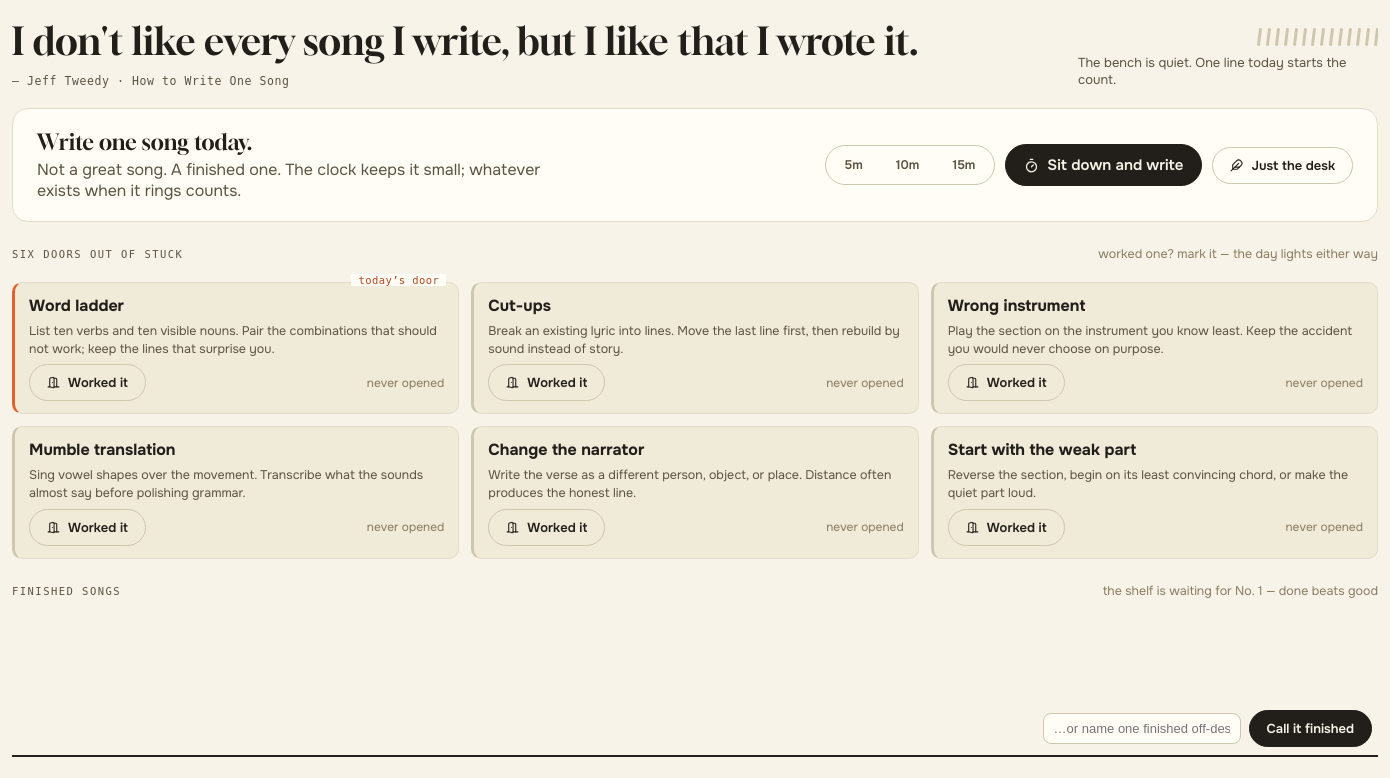
OneSong › finishing a named song shelves it as No. 1 and plays the amen
In the field named "name a song finished elsewhere": (1142, 728) [1043,712,1241,744], type "Coyote Time"
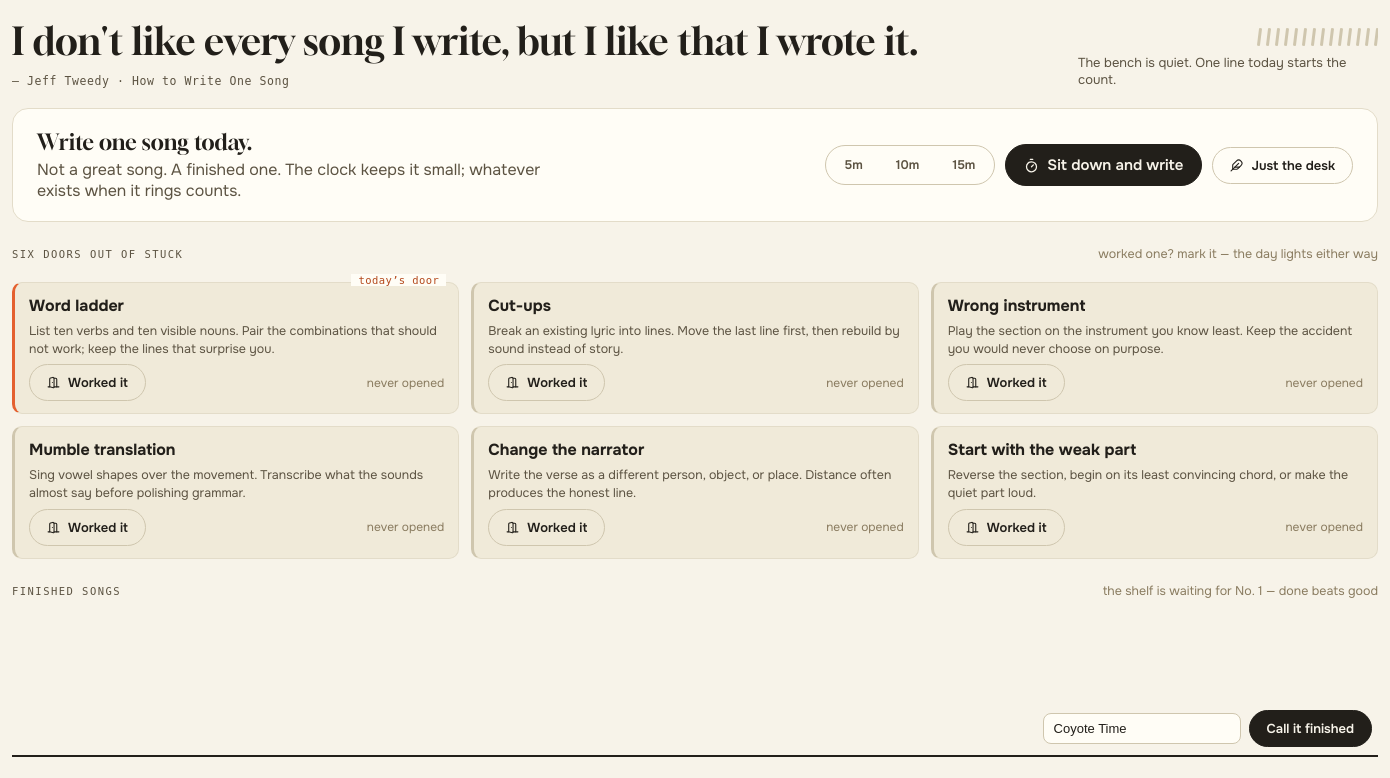
Click the button "Call it finished": (1310, 728) [1249,710,1372,746]
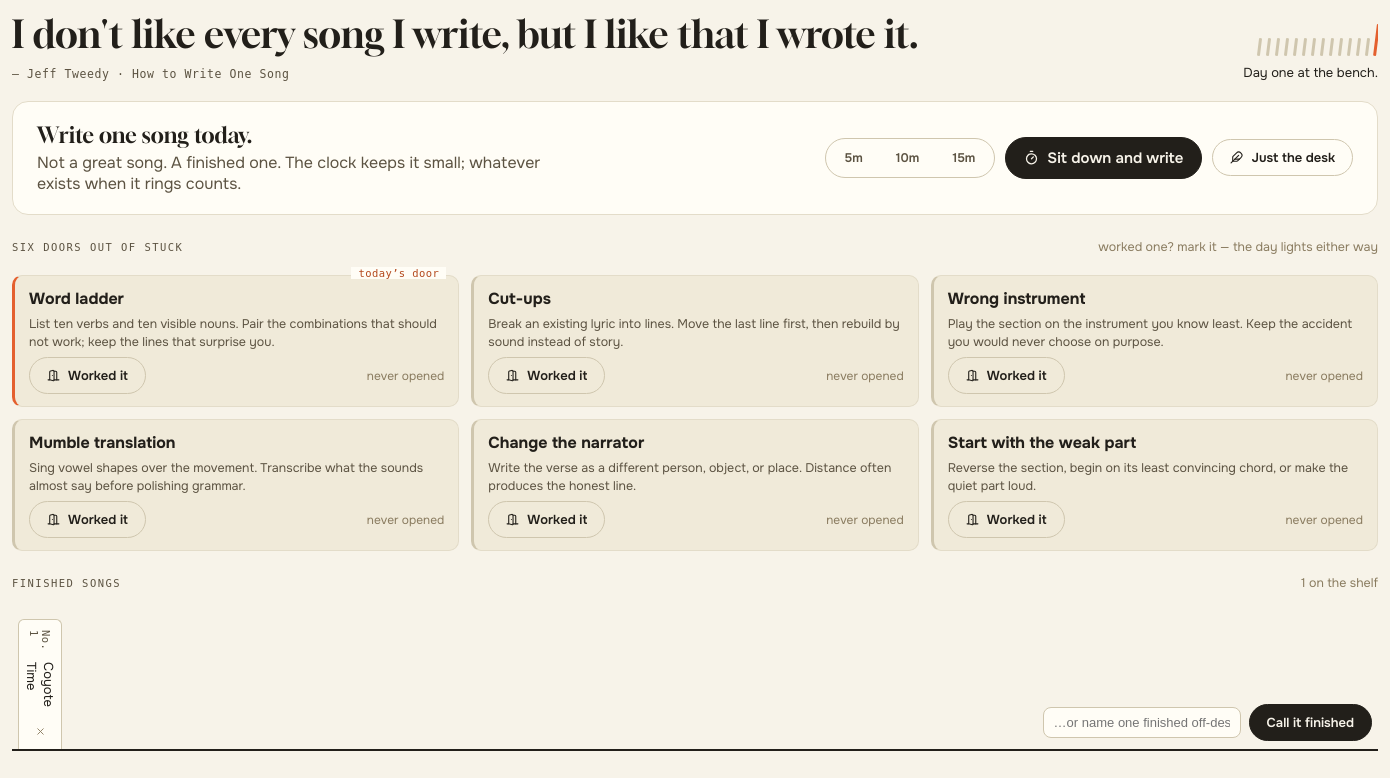
Expected: the text "No. 1" is shown, [28,630,52,654]
Expected: the text "Coyote Time" is shown, [23,662,57,716]
